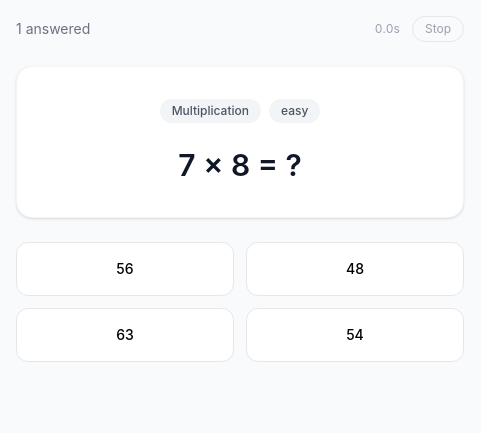
Test: GamePage › shows wrong feedback with correct answer after wrong answer
Step 1. Click the button "48" → coordinates (355, 268), box [246,242,464,296]
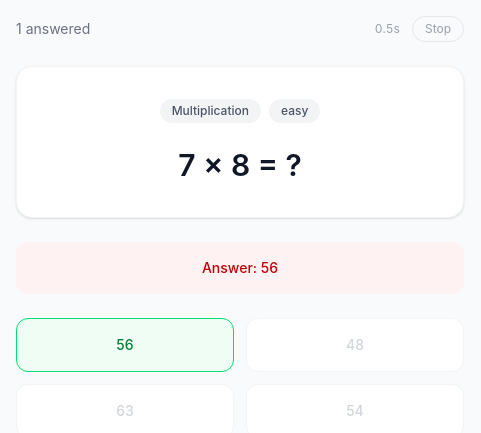
Expected: the text "Answer: 56" is shown, [16,242,464,294]
